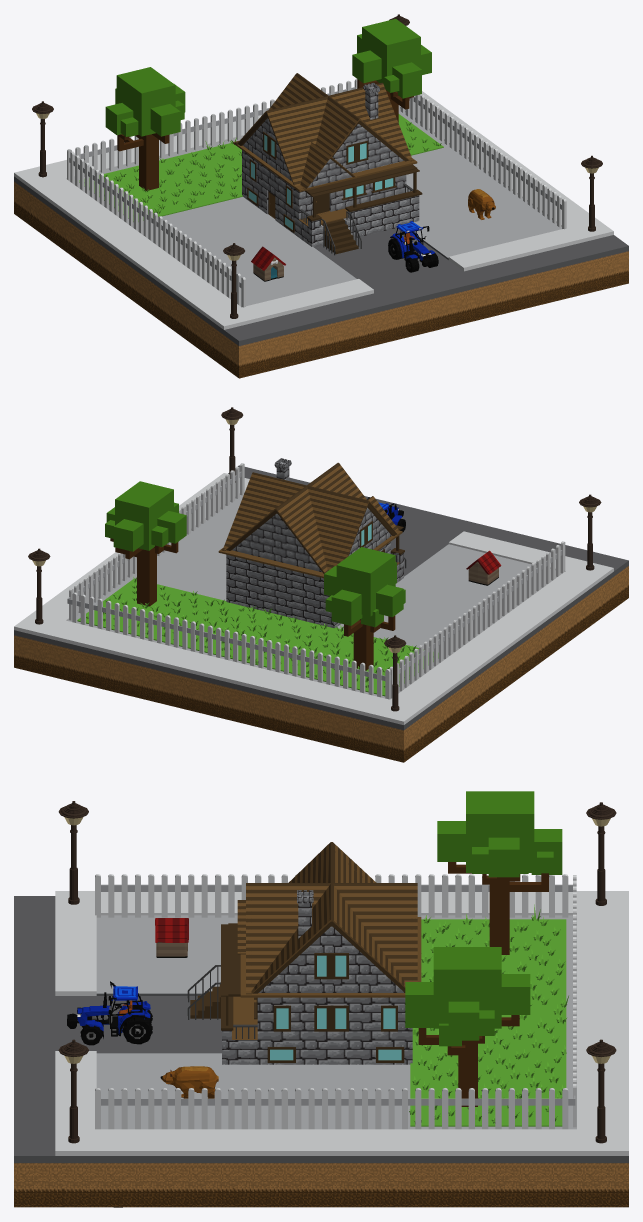
3 views of the same model, one above another, from view 1: azimuth 30°, elevation 25°; view 2: azimuth 150°, elevation 25°; view 3: azimuth 270°, elevation 25° (orthographic). The views are drawn at different scales.
Parts seen in each view (by area): view 1: Cube.004, Cube.586, VEHICLES_TRACTOR, OBJRANDOM_DOGHOUSE, ANIMAL_OSO; view 2: Cube.004, Cube.586, OBJRANDOM_DOGHOUSE; view 3: Cube.004, Cube.586, VEHICLES_TRACTOR, OBJRANDOM_DOGHOUSE, ANIMAL_OSO.
Part boxes in pixels (x1=…): Cube.004: x1=14, y1=14, x2=628, y2=378; Cube.586: x1=233, y1=73, x2=422, y2=255; VEHICLES_TRACTOR: x1=388, y1=221, x2=438, y2=272; OBJRANDOM_DOGHOUSE: x1=251, y1=246, x2=285, y2=281; ANIMAL_OSO: x1=468, y1=189, x2=495, y2=219; Cube.004: x1=14, y1=407, x2=628, y2=762; Cube.586: x1=218, y1=458, x2=406, y2=627; OBJRANDOM_DOGHOUSE: x1=466, y1=550, x2=501, y2=585; Cube.004: x1=14, y1=791, x2=628, y2=1207; Cube.586: x1=187, y1=842, x2=421, y2=1064; VEHICLES_TRACTOR: x1=67, y1=981, x2=152, y2=1045; OBJRANDOM_DOGHOUSE: x1=155, y1=918, x2=188, y2=957; ANIMAL_OSO: x1=160, y1=1066, x2=218, y2=1098.
Bounding box in the file's own units: 4000 × 1583 × 4000.
Materials: 32 (4 with a texture image).
